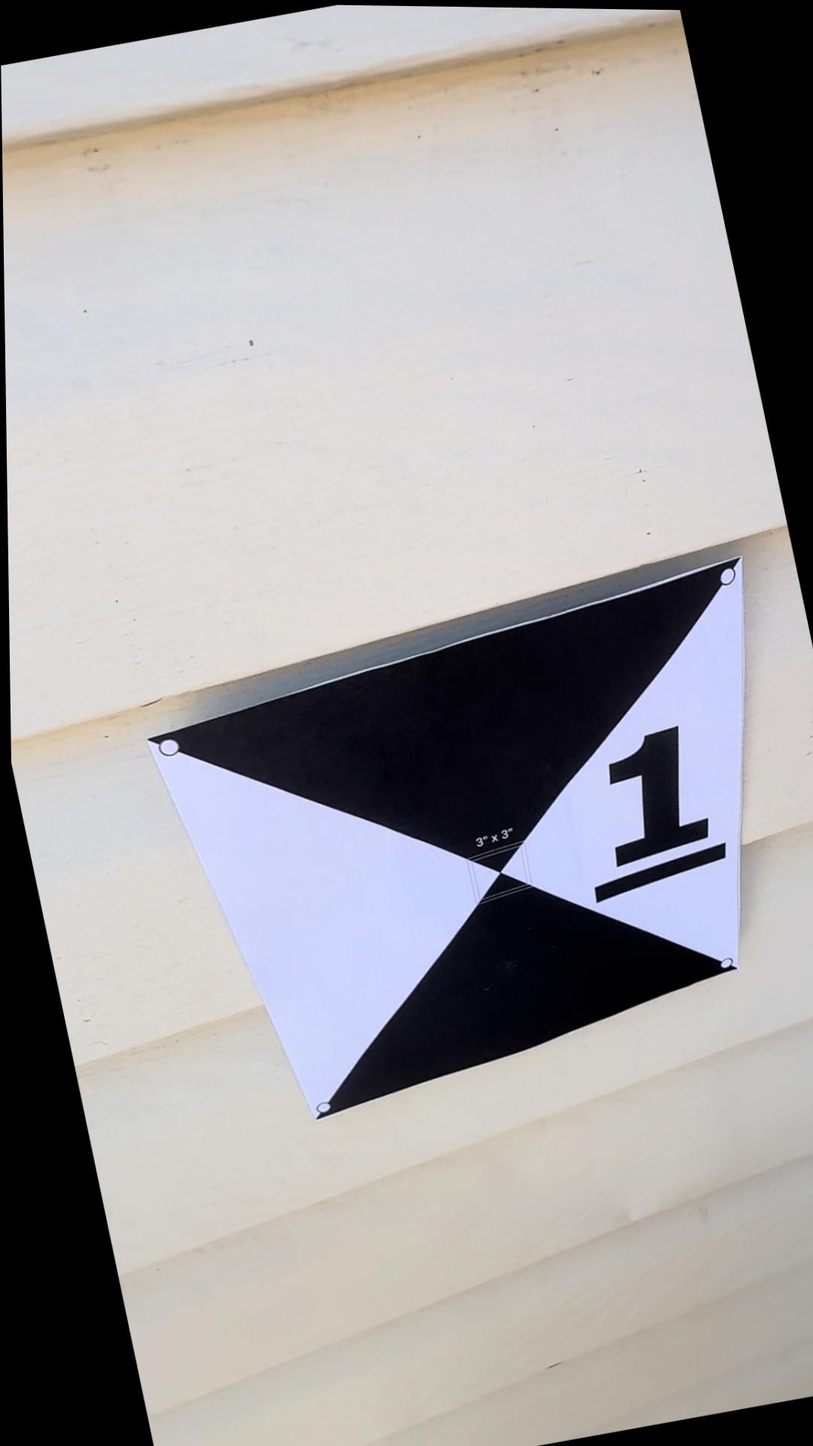target1: (150, 539, 765, 1141)
